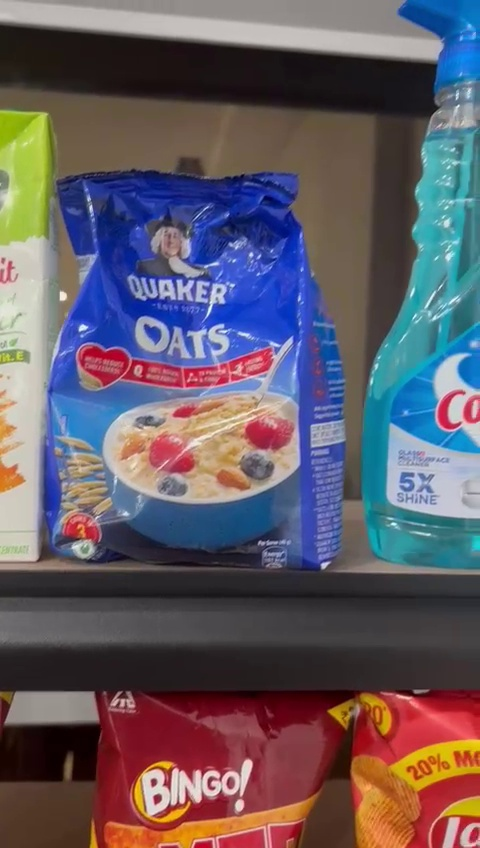Quaker Oats: (55, 171, 349, 568)
